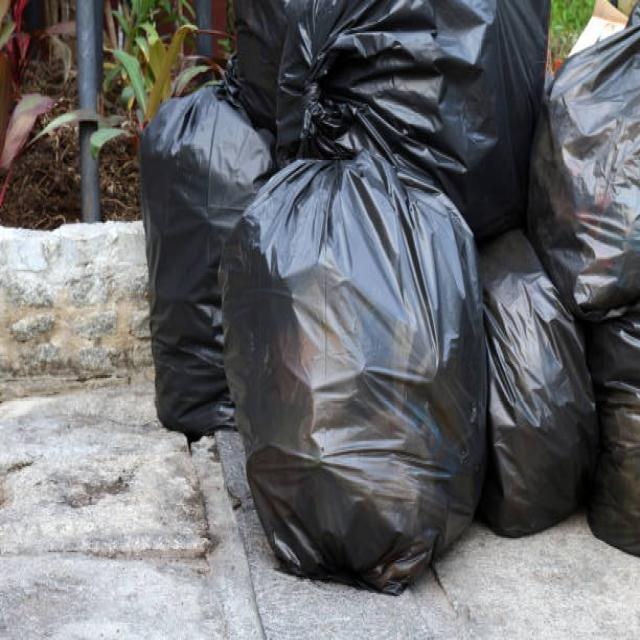Vinyl: (208, 126, 493, 600), (269, 0, 543, 226), (134, 83, 266, 444), (483, 230, 600, 538), (522, 13, 640, 316)
